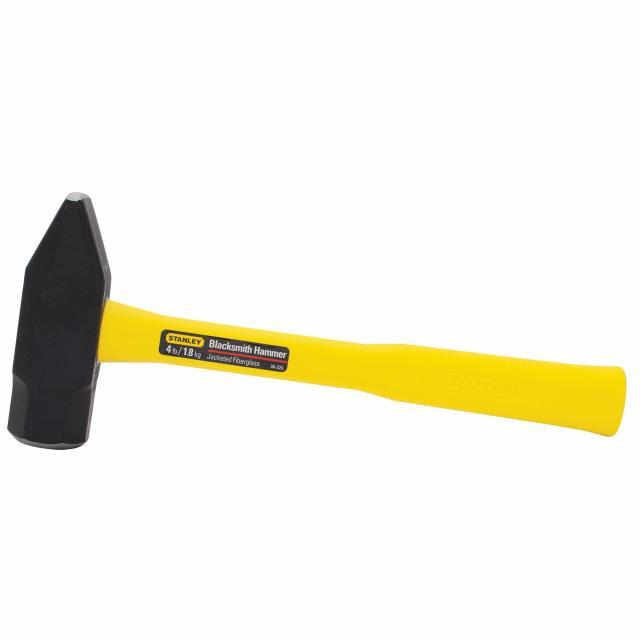hammer: (0, 190, 633, 478)
